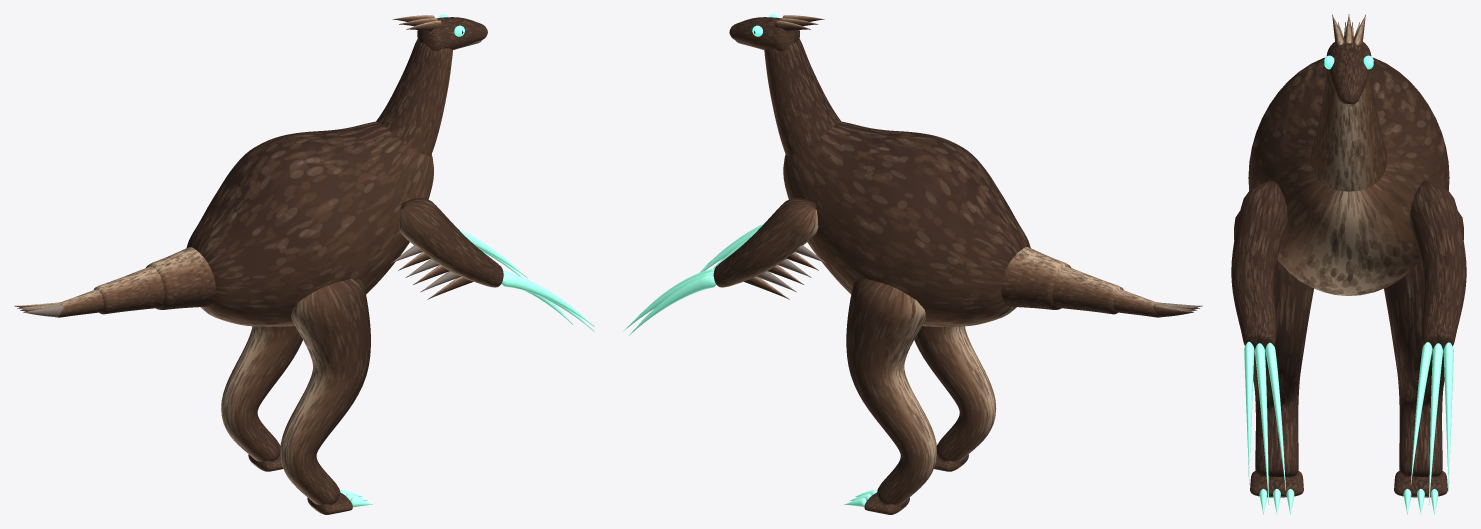
File: therizino.glb
The picture shows the model from 3 angles, left to right: view 1: azimuth 30°, elevation 25°; view 2: azimuth 150°, elevation 25°; view 3: azimuth 270°, elevation 25°; orthographic projection. The views are drawn at different scales.
Parts seen in each view (by area): view 1: Therizino_Torso, Therizino_Leg1, Therizino_Leg0, Therizino_Neck, Therizino_Arm1, Therizino_TailSeg0, Therizino_TailSeg1, Therizino_Cranium, Therizino_TailSeg2, Therizino_Scythe1_0; view 2: Therizino_Torso, Therizino_Leg0, Therizino_Leg1, Therizino_Neck, Therizino_Arm0, Therizino_TailSeg0, Therizino_TailSeg1, Therizino_Cranium, Therizino_TailSeg2, Therizino_Scythe0_2; view 3: Therizino_Torso, Therizino_Leg0, Therizino_Leg1, Therizino_Arm1, Therizino_Arm0, Therizino_Neck, Therizino_Cranium, Therizino_FootPad0, Therizino_FootPad1, Therizino_Scythe0_1, Therizino_Scythe1_1, Therizino_Scythe0_2 (+3 smaller).
Boxes of the visible parts, x1=… form: Therizino_Torso: x1=186, y1=121, x2=433, y2=326; Therizino_Leg1: x1=280, y1=279, x2=370, y2=504; Therizino_Leg0: x1=221, y1=326, x2=302, y2=461; Therizino_Neck: x1=376, y1=39, x2=452, y2=155; Therizino_Arm1: x1=399, y1=198, x2=503, y2=287; Therizino_TailSeg0: x1=146, y1=247, x2=215, y2=309; Therizino_TailSeg1: x1=94, y1=266, x2=164, y2=314; Therizino_Cranium: x1=417, y1=17, x2=487, y2=51; Therizino_TailSeg2: x1=55, y1=289, x2=103, y2=317; Therizino_Scythe1_0: x1=501, y1=274, x2=594, y2=326; Therizino_Torso: x1=783, y1=121, x2=1030, y2=326; Therizino_Leg0: x1=846, y1=279, x2=936, y2=504; Therizino_Leg1: x1=914, y1=326, x2=996, y2=461; Therizino_Neck: x1=764, y1=39, x2=841, y2=155; Therizino_Arm0: x1=713, y1=198, x2=818, y2=287; Therizino_TailSeg0: x1=1001, y1=247, x2=1071, y2=309; Therizino_TailSeg1: x1=1052, y1=266, x2=1123, y2=314; Therizino_Cranium: x1=729, y1=17, x2=799, y2=51; Therizino_TailSeg2: x1=1113, y1=289, x2=1161, y2=317; Therizino_Scythe0_2: x1=628, y1=275, x2=716, y2=335; Therizino_Torso: x1=1248, y1=57, x2=1449, y2=295; Therizino_Leg0: x1=1384, y1=211, x2=1463, y2=476; Therizino_Leg1: x1=1234, y1=211, x2=1313, y2=476; Therizino_Arm1: x1=1231, y1=180, x2=1287, y2=352; Therizino_Arm0: x1=1410, y1=180, x2=1466, y2=352; Therizino_Neck: x1=1310, y1=70, x2=1387, y2=191; Therizino_Cranium: x1=1326, y1=37, x2=1371, y2=105; Therizino_FootPad0: x1=1394, y1=470, x2=1447, y2=497; Therizino_FootPad1: x1=1250, y1=470, x2=1303, y2=497; Therizino_Scythe0_1: x1=1428, y1=343, x2=1443, y2=504; Therizino_Scythe1_1: x1=1254, y1=343, x2=1269, y2=504; Therizino_Scythe0_2: x1=1443, y1=342, x2=1453, y2=491.
Bounding box in the file's own units: 5.1 × 3.95 × 1.57.
5 materials, 1 textured.
